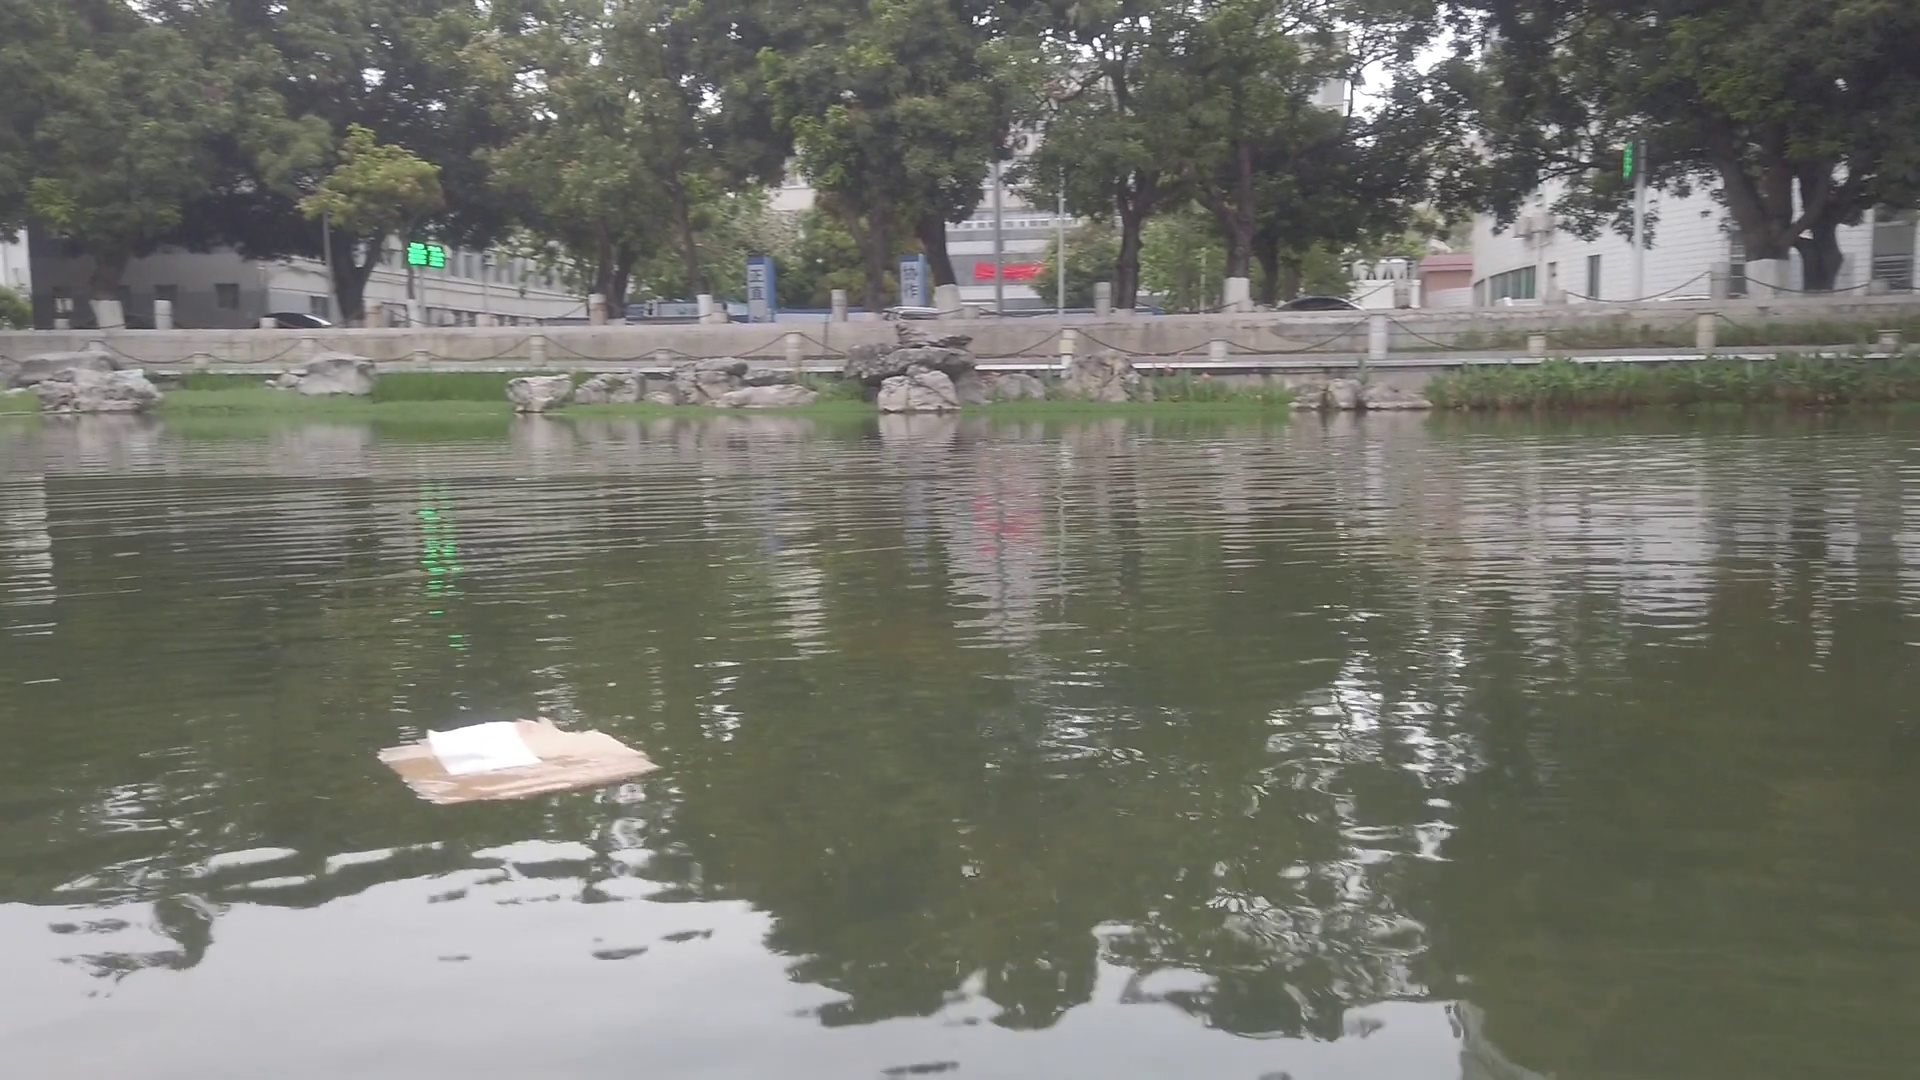paper: (384, 713, 669, 808)
